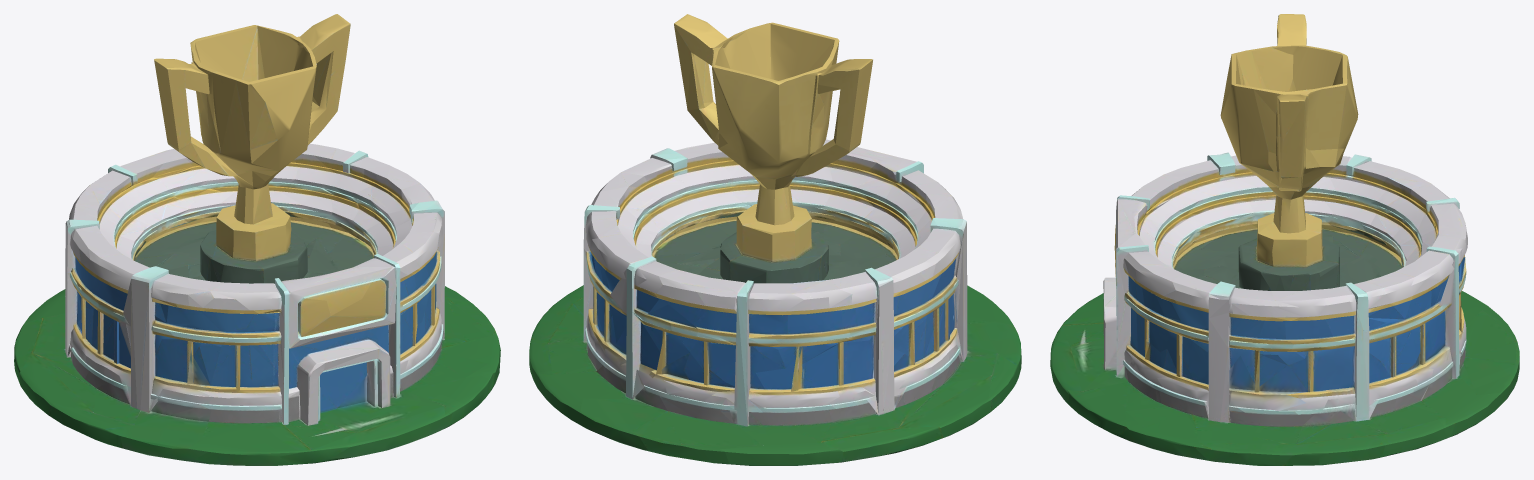
The model's file is contest.glb.
3 renders of one model, left to right at view 1: azimuth 30°, elevation 25°; view 2: azimuth 150°, elevation 25°; view 3: azimuth 270°, elevation 25°, orthographic. The views are drawn at different scales.
Visible parts, largest first — view 1: Mesh_0; view 2: Mesh_0; view 3: Mesh_0.
Part boxes in pixels (box(x1,y1,x2,y2)): Mesh_0: box(14, 14, 500, 465); Mesh_0: box(529, 14, 1021, 465); Mesh_0: box(1050, 14, 1519, 465).
Size of the model in its own units: 1.9 by 1.39 by 1.9.
Materials: 1 (1 with a texture image).
